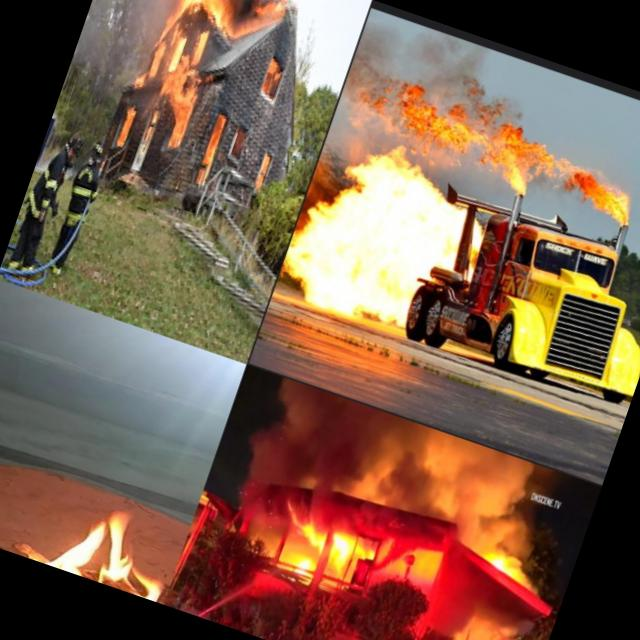fire: (328, 62, 640, 232), (269, 125, 459, 342), (17, 486, 187, 604), (143, 45, 210, 149), (274, 500, 366, 572), (194, 115, 226, 182), (167, 0, 242, 27), (476, 545, 520, 581), (283, 552, 319, 586), (258, 58, 283, 101), (353, 538, 381, 571), (115, 107, 136, 148), (256, 0, 289, 23), (147, 42, 167, 76), (254, 154, 272, 189)
smoke: (236, 374, 513, 564), (350, 6, 481, 100), (114, 0, 172, 79), (419, 572, 485, 640), (229, 485, 289, 543), (484, 511, 544, 561), (494, 456, 538, 519), (510, 557, 552, 602), (220, 0, 279, 19)
